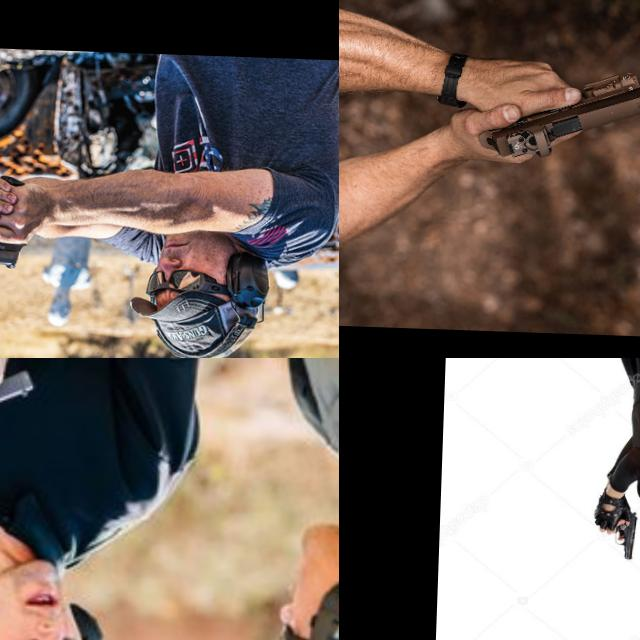handgun: (474, 61, 640, 163), (0, 358, 100, 465), (0, 212, 59, 271), (610, 508, 638, 562)
